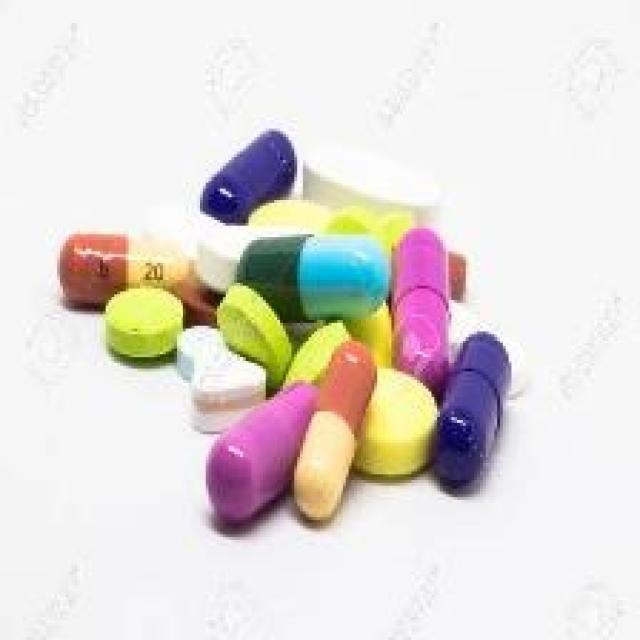Medicine: (39, 116, 545, 554)
